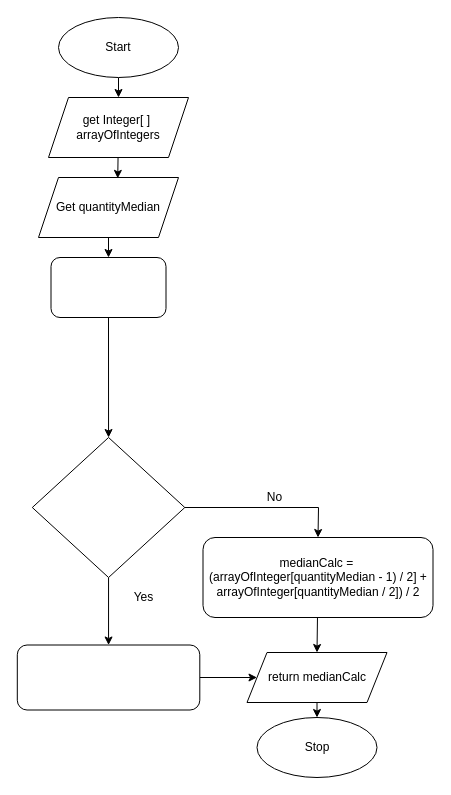
The diagram is 451 pixels wide and 795 high, and some of its shapes have lost their labels. The shapes that lost their labels are listed below. From the top down, each one's centre as x and y in pixels, then its label:
At [108,287]: "medianCalc = 0".
At [108,507]: "if quantity % 2 = 0".
At [108,677]: "medianCalc = arrayOfIntegers[(quantity - 1) / 2]".
